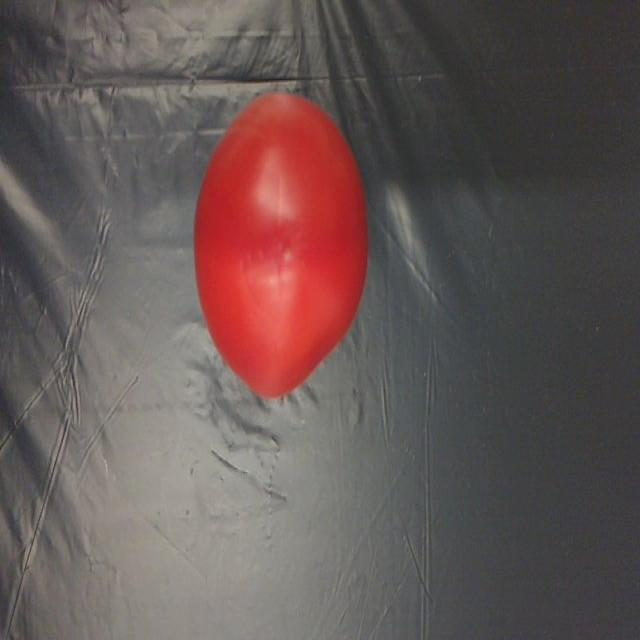kirmizi: (156, 84, 383, 425)
